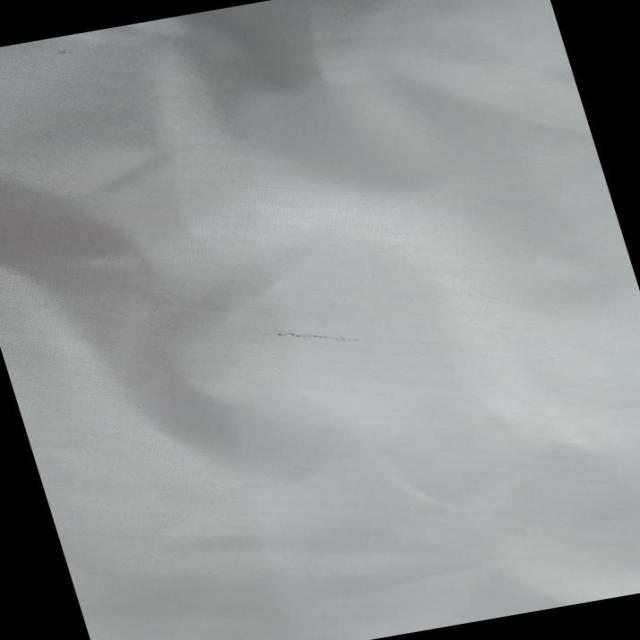contamination: (257, 312, 361, 364)
